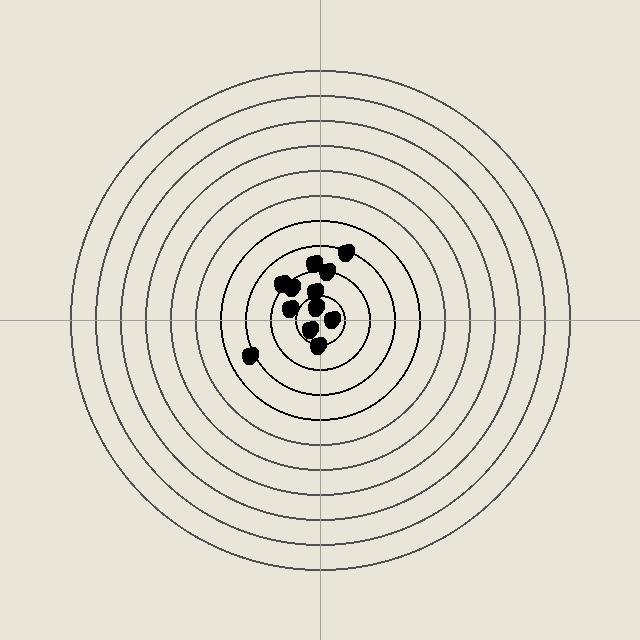good_group: (335, 242, 355, 262), (321, 309, 341, 329), (303, 253, 323, 273), (307, 335, 327, 355), (271, 273, 291, 293), (304, 281, 324, 301), (305, 297, 325, 317), (281, 277, 301, 297), (316, 261, 336, 281), (279, 298, 299, 318), (239, 345, 259, 365), (299, 319, 319, 339)
